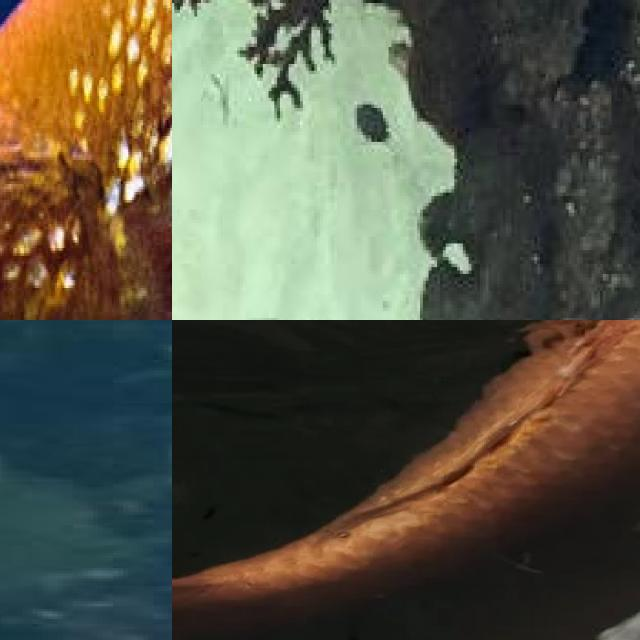fish: (172, 320, 640, 640), (0, 0, 172, 320)
